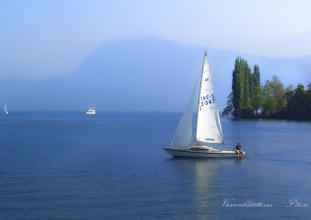fanchuan: (161, 50, 252, 157)
